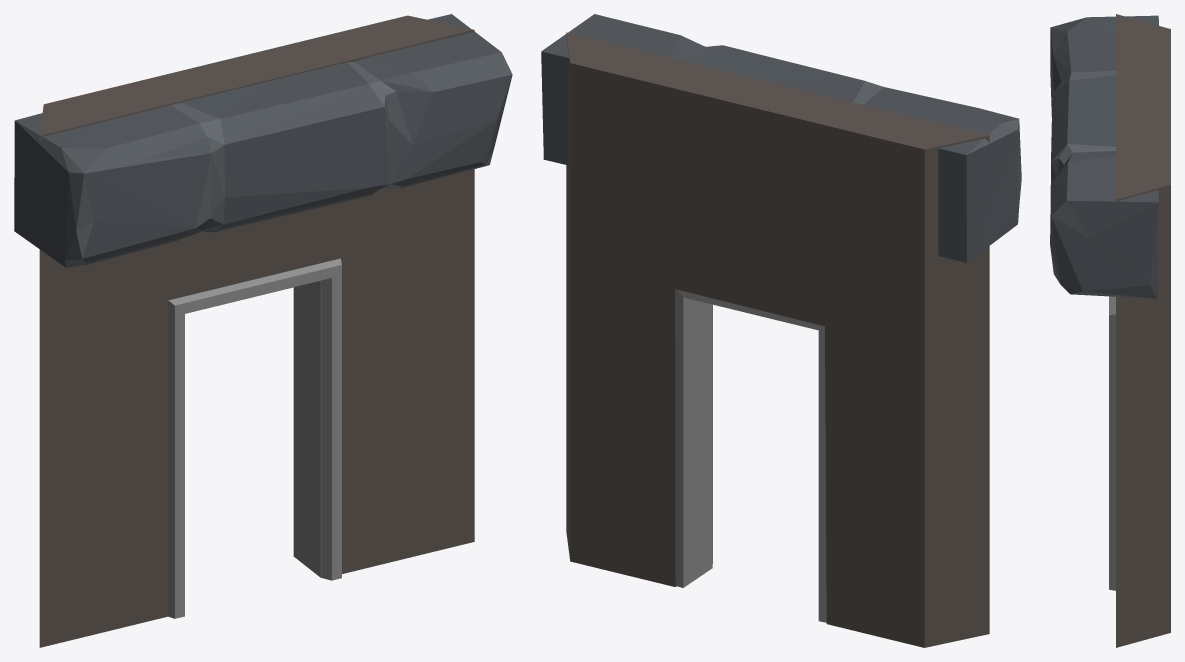
File: MCastle_SquareWalls_HeavyTrim_Door.FBX
3 renders of one model, left to right at view 1: azimuth 30°, elevation 25°; view 2: azimuth 150°, elevation 25°; view 3: azimuth 270°, elevation 25°, orthographic. The views are drawn at different scales.
Parts seen in each view (by area): view 1: MCastle_SquareWalls_HeavyTrim_Door_LOD0; view 2: MCastle_SquareWalls_HeavyTrim_Door_LOD0; view 3: MCastle_SquareWalls_HeavyTrim_Door_LOD0.
Part boxes in pixels (<box>): MCastle_SquareWalls_HeavyTrim_Door_LOD0: <box>14,14,512,647</box>; MCastle_SquareWalls_HeavyTrim_Door_LOD0: <box>541,14,1021,647</box>; MCastle_SquareWalls_HeavyTrim_Door_LOD0: <box>1050,14,1170,647</box>.
Size of what is drawn, in the model's own units: 4.03 by 4.5 by 1.1.
